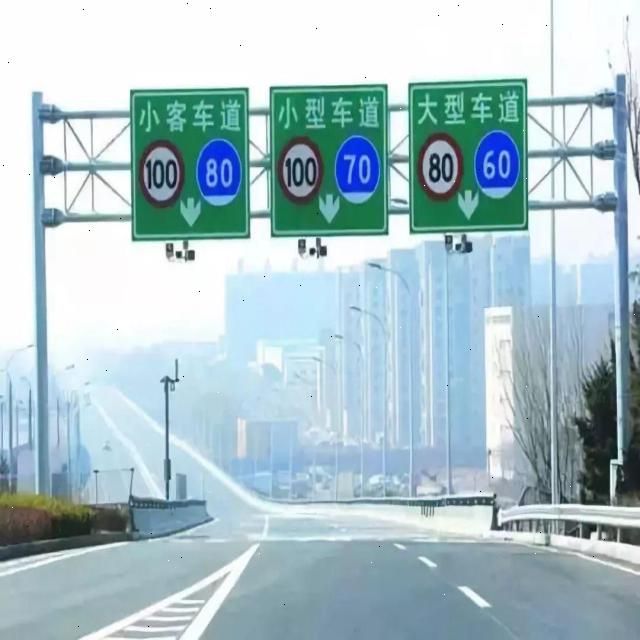speed limit 100: (277, 134, 325, 204), (138, 137, 185, 207)
speed limit 60: (474, 130, 520, 201)
speed limit 70: (334, 137, 381, 207)
speed limit 80: (195, 140, 243, 207), (416, 133, 463, 201)
